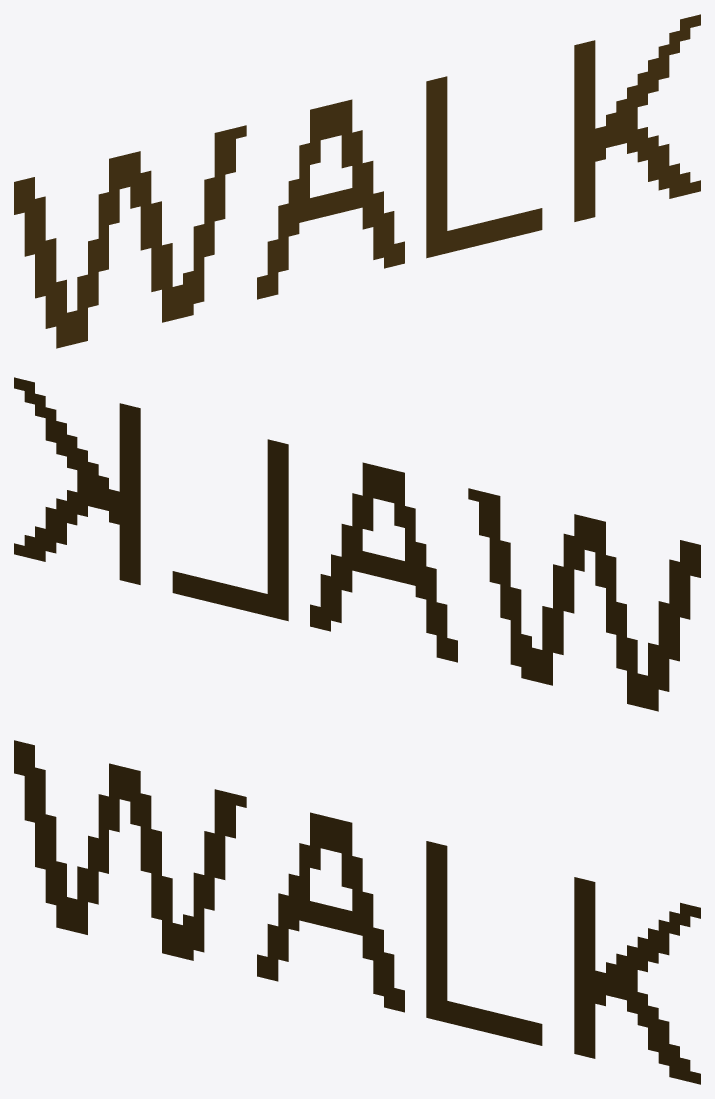
Rendered from result_walk.obj.
3 views of the same model, one above another, from view 1: azimuth 30°, elevation 25°; view 2: azimuth 150°, elevation 25°; view 3: azimuth 330°, elevation 25° (orthographic).
Visible parts, largest first — view 1: board_text; view 2: board_text; view 3: board_text.
Boxes of the visible parts, left/top/right/bottom form: board_text: left=14, top=14, right=700, bottom=348; board_text: left=14, top=377, right=700, bottom=711; board_text: left=14, top=740, right=700, bottom=1084.
Size of the model in its own units: 3.82 by 0.94 by 0.
